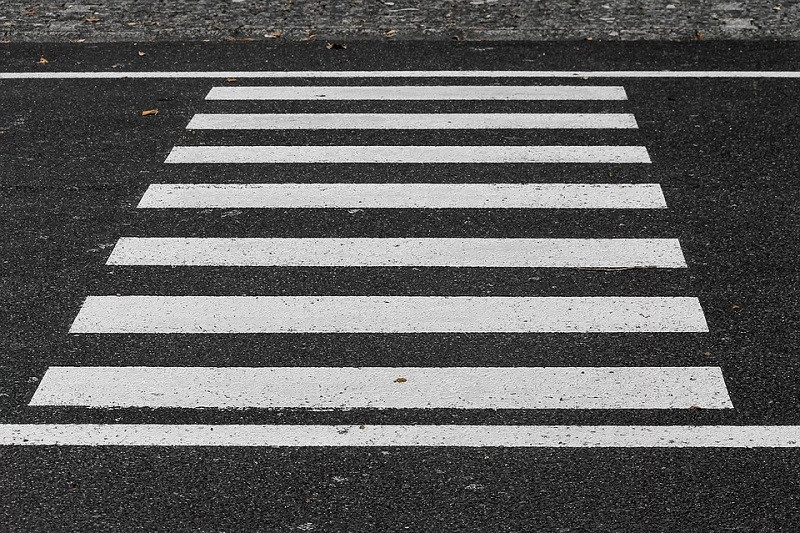pedestrian lane: (21, 68, 800, 446)
